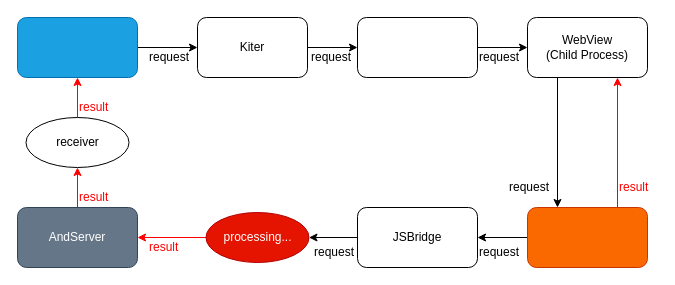
Some shapes in this 675 by 285 pixel diagram are drawn without their labels. Each missing label, with the box of its shape:
BookService (Child Process): (356, 16, 478, 78)
JS: (526, 206, 648, 268)
UserPage (Main Process): (16, 16, 138, 78)
